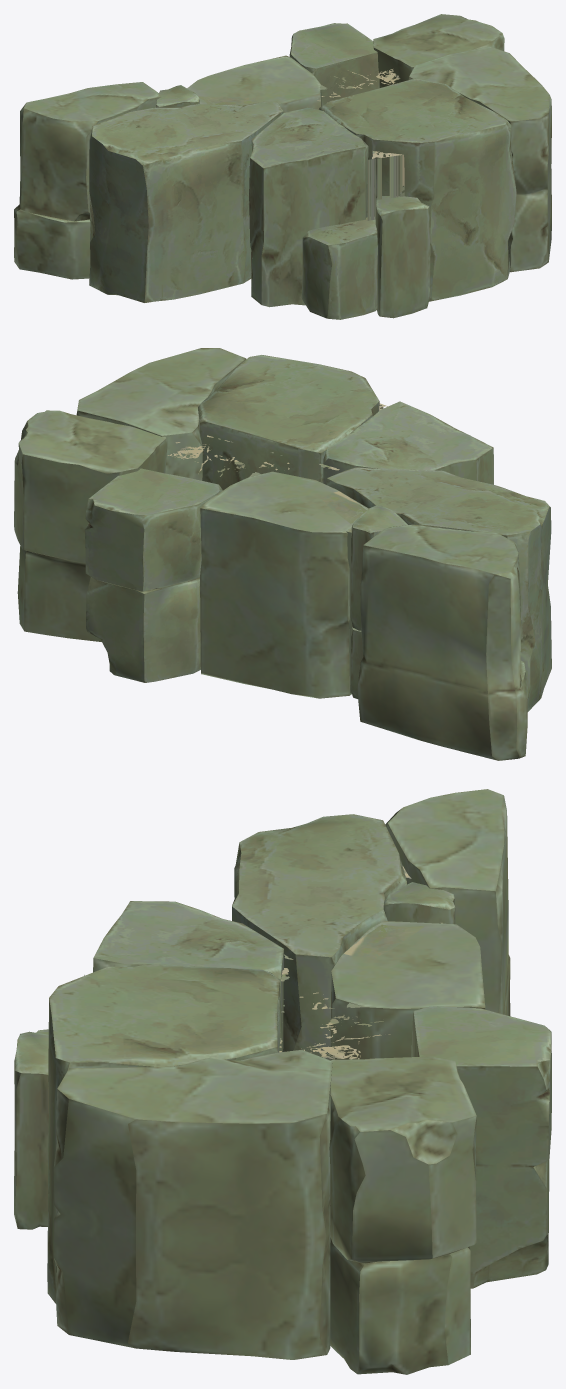
Rendered from Ruins_Wall_DMG_Top_Cnr_L_B.fbx.
3 views of the same model, one above another, from view 1: azimuth 30°, elevation 25°; view 2: azimuth 150°, elevation 25°; view 3: azimuth 270°, elevation 25° (orthographic). The views are drawn at different scales.
Visible parts, largest first — view 1: Ruins_Wall_DMG_Top_Cnr_L_B; view 2: Ruins_Wall_DMG_Top_Cnr_L_B; view 3: Ruins_Wall_DMG_Top_Cnr_L_B.
Part boxes in pixels (x1=…): Ruins_Wall_DMG_Top_Cnr_L_B: x1=14, y1=14, x2=551, y2=319; Ruins_Wall_DMG_Top_Cnr_L_B: x1=14, y1=348, x2=551, y2=760; Ruins_Wall_DMG_Top_Cnr_L_B: x1=14, y1=789, x2=551, y2=1374.
Size of the model in its own units: 870 by 297 by 568.
